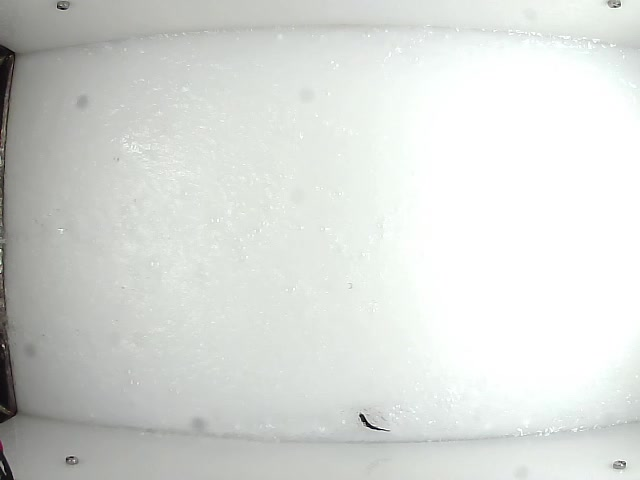fish: (357, 409, 389, 433)
